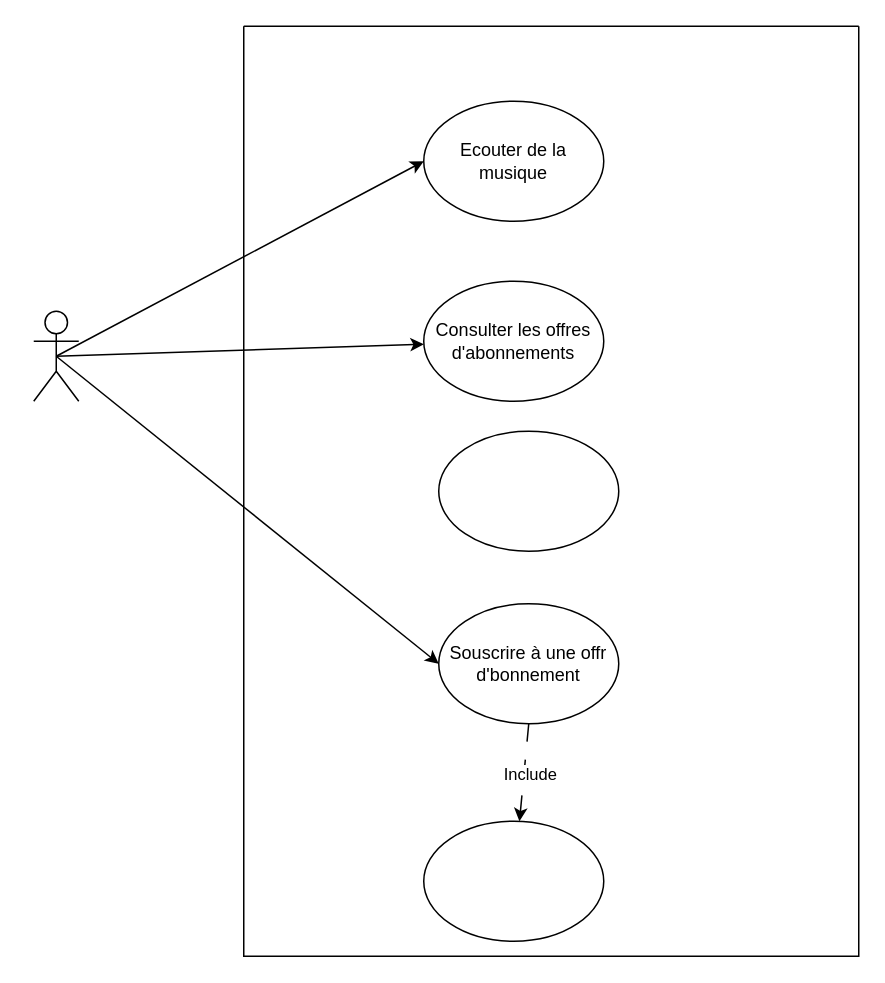
Some shapes in this 885 by 983 pixel diagram are drawn without their labels. Here are the shapes that lost their labels. From the top down, the centre of each, then its label:
[55,355]: Visiteur
[513,880]: S'inscrire
